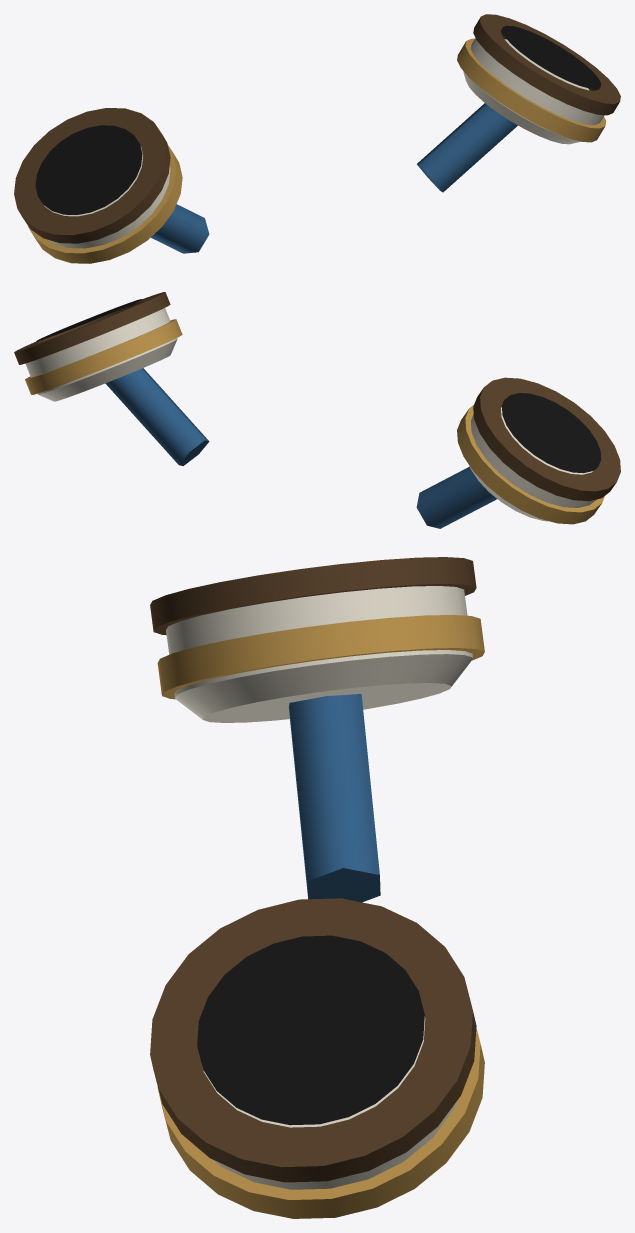
Rendered from rm2_thrusters_aft.obj.
3 views of the same model, one above another, from view 1: azimuth 30°, elevation 25°; view 2: azimuth 150°, elevation 25°; view 3: azimuth 270°, elevation 25° (orthographic). The views are drawn at different scales.
Parts seen in each view (by area): view 1: rm2_thrusters_aft; view 2: rm2_thrusters_aft; view 3: rm2_thrusters_aft.
Boxes of the visible parts, bbox=[...] form: rm2_thrusters_aft: bbox=[14, 14, 620, 263]; rm2_thrusters_aft: bbox=[14, 292, 620, 528]; rm2_thrusters_aft: bbox=[150, 557, 484, 1218].
Bounding box in the file's own units: 0.643 × 0.1597 × 0.1599.
